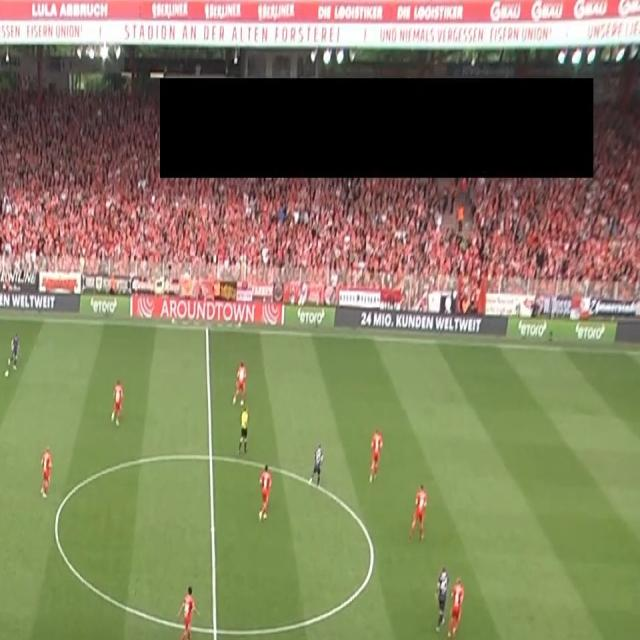ball: (3, 366, 10, 379)
